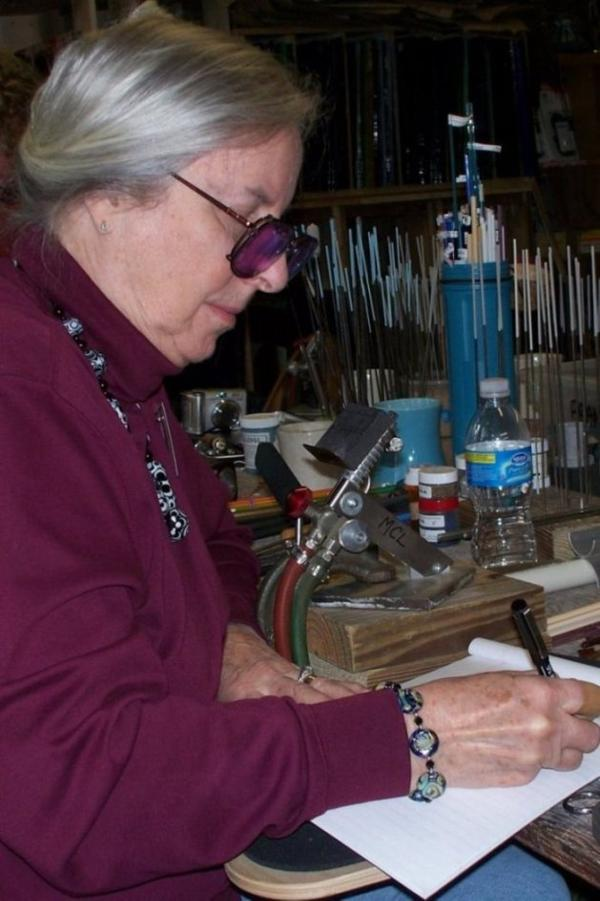person: (4, 15, 597, 900)
